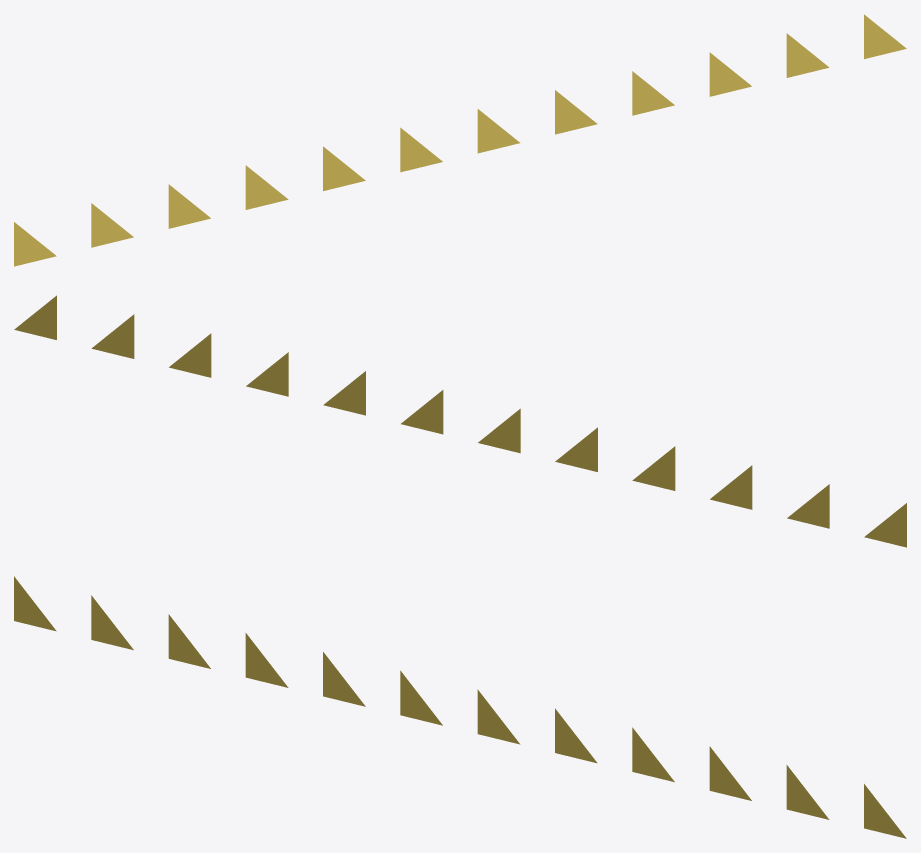
3 views of the same model, one above another, from view 1: azimuth 30°, elevation 25°; view 2: azimuth 150°, elevation 25°; view 3: azimuth 330°, elevation 25° (orthographic).
Visible parts, largest first — view 1: scene-6_props; view 2: scene-6_props; view 3: scene-6_props.
Boxes of the visible parts, bbox=[...] form: scene-6_props: bbox=[14, 14, 906, 266]; scene-6_props: bbox=[14, 295, 906, 547]; scene-6_props: bbox=[14, 576, 906, 838].
Bounding box in the file's own units: 0.208 × 0.01 × 0.
